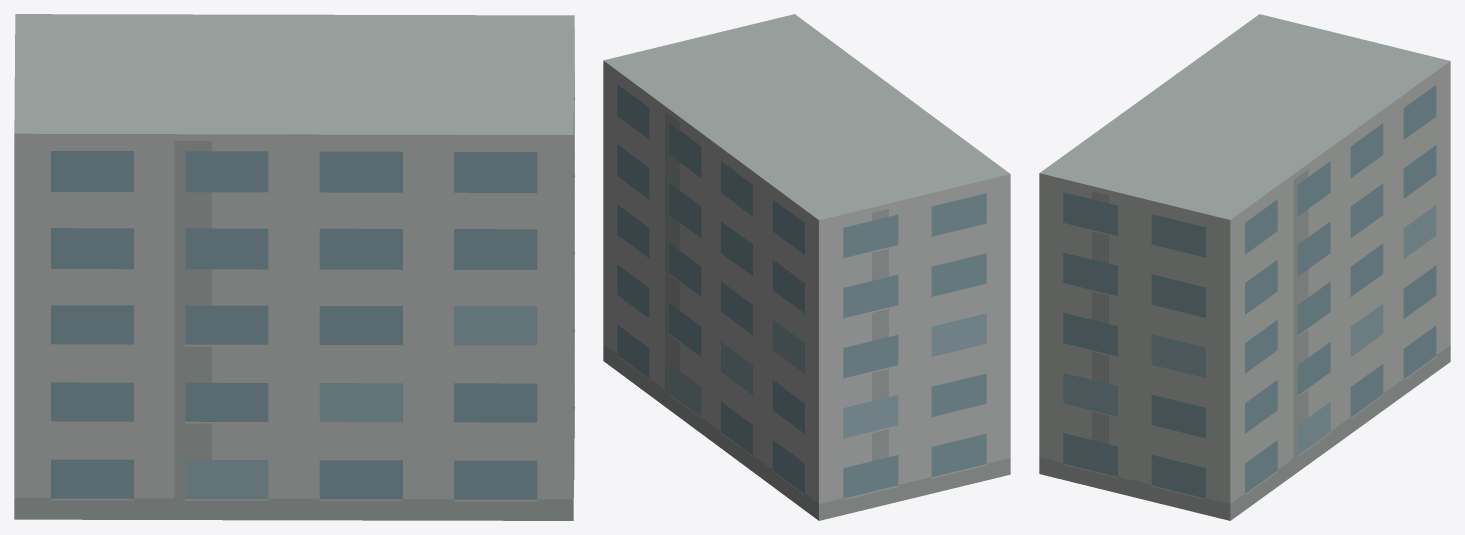
The model's file is survey-upis-32673117.glb.
3 renders of one model, left to right at view 1: azimuth 30°, elevation 25°; view 2: azimuth 150°, elevation 25°; view 3: azimuth 270°, elevation 25°, orthographic. The views are drawn at different scales.
Parts seen in each view (by area): view 1: survey-upis-32673117.tmp; view 2: survey-upis-32673117.tmp; view 3: survey-upis-32673117.tmp.
Boxes of the visible parts, x1,y1,x2,y2 form: survey-upis-32673117.tmp: [14, 14, 574, 520]; survey-upis-32673117.tmp: [603, 14, 1010, 520]; survey-upis-32673117.tmp: [1039, 14, 1450, 520].
Size of the model in its own units: 19.98 by 13.6 by 16.85.
